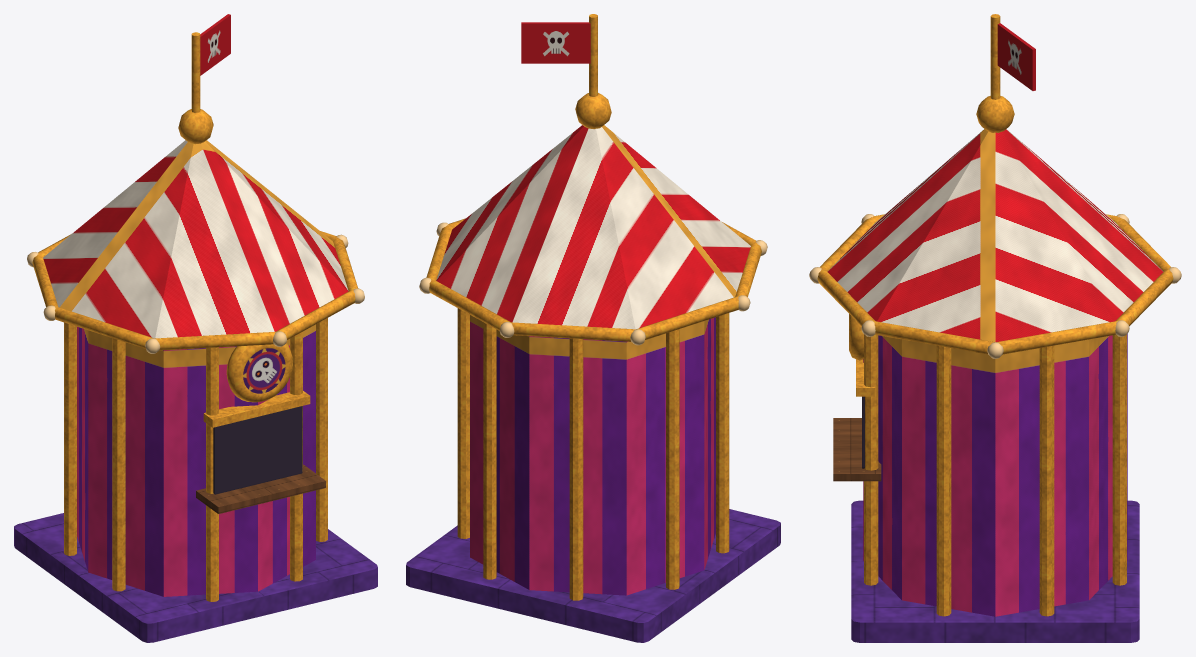
The model's file is MO_TicketBooth.fbx.
3 renders of one model, left to right at view 1: azimuth 30°, elevation 25°; view 2: azimuth 150°, elevation 25°; view 3: azimuth 270°, elevation 25°, orthographic. The views are drawn at different scales.
Parts seen in each view (by area): view 1: MO_TicketBooth; view 2: MO_TicketBooth; view 3: MO_TicketBooth.
Part boxes in pixels (x1,y1,x2,y2): MO_TicketBooth: (14,14,377,642); MO_TicketBooth: (406,14,780,642); MO_TicketBooth: (809,14,1181,642).
Size of the model in its own units: 3.1 by 5.2 by 3.1.
